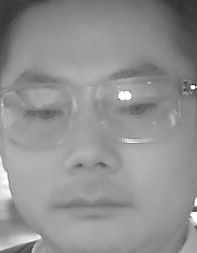eye: (24, 105, 62, 124), (116, 102, 156, 118)
glass: (95, 77, 180, 147), (1, 80, 75, 149)
mouth: (55, 189, 127, 225)
